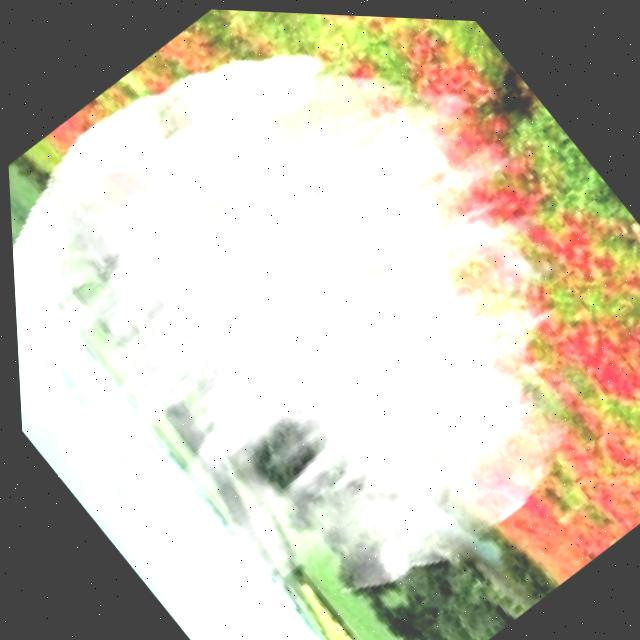Smoke: (8, 8, 640, 640)
